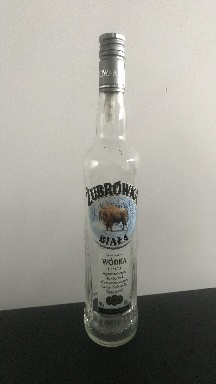butelka: (81, 30, 140, 349)
